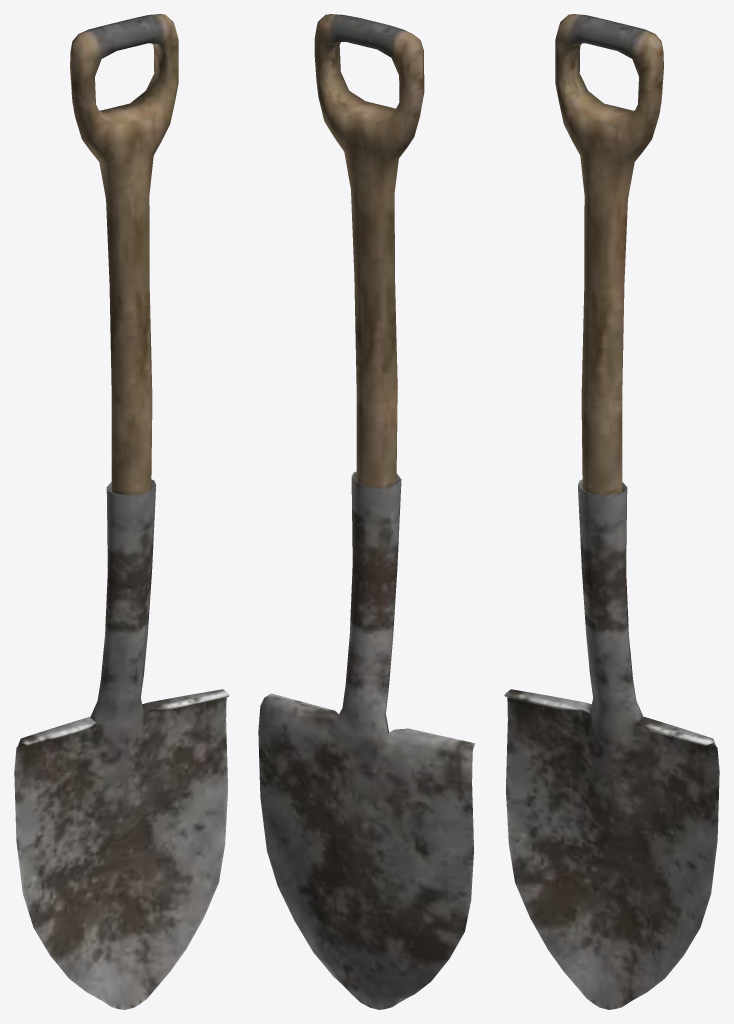
Rendered from obj_dirty_shovel.glb.
The picture shows the model from 3 angles, left to right: view 1: azimuth 30°, elevation 25°; view 2: azimuth 150°, elevation 25°; view 3: azimuth 330°, elevation 25°; orthographic projection.
Parts seen in each view (by area): view 1: Shovel_Shovel_0; view 2: Shovel_Shovel_0; view 3: Shovel_Shovel_0.
Boxes of the visible parts, box(x1,y1,x2,y2) form: Shovel_Shovel_0: box(14, 14, 229, 1009); Shovel_Shovel_0: box(258, 14, 475, 1009); Shovel_Shovel_0: box(504, 14, 719, 1009).
Bounding box in the file's own units: 0.2484 × 1.1 × 0.0644.
1 material, 1 textured.
